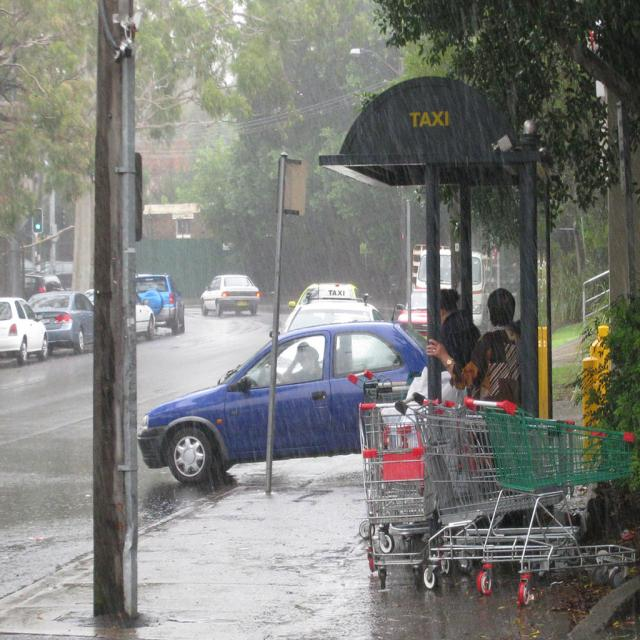car: (199, 271, 260, 314)
